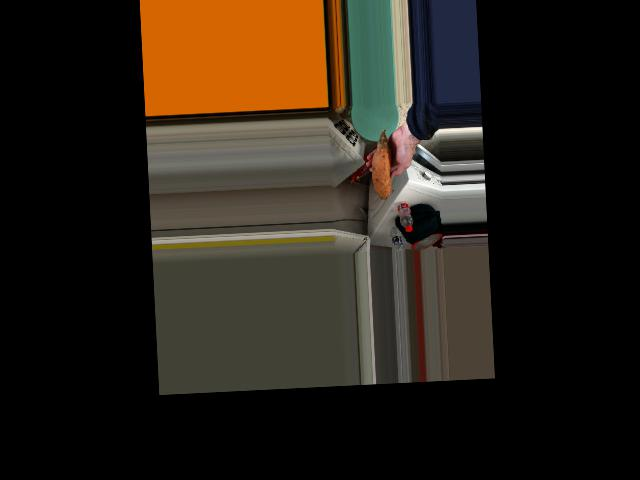sweet_potato: (371, 143, 397, 205)
